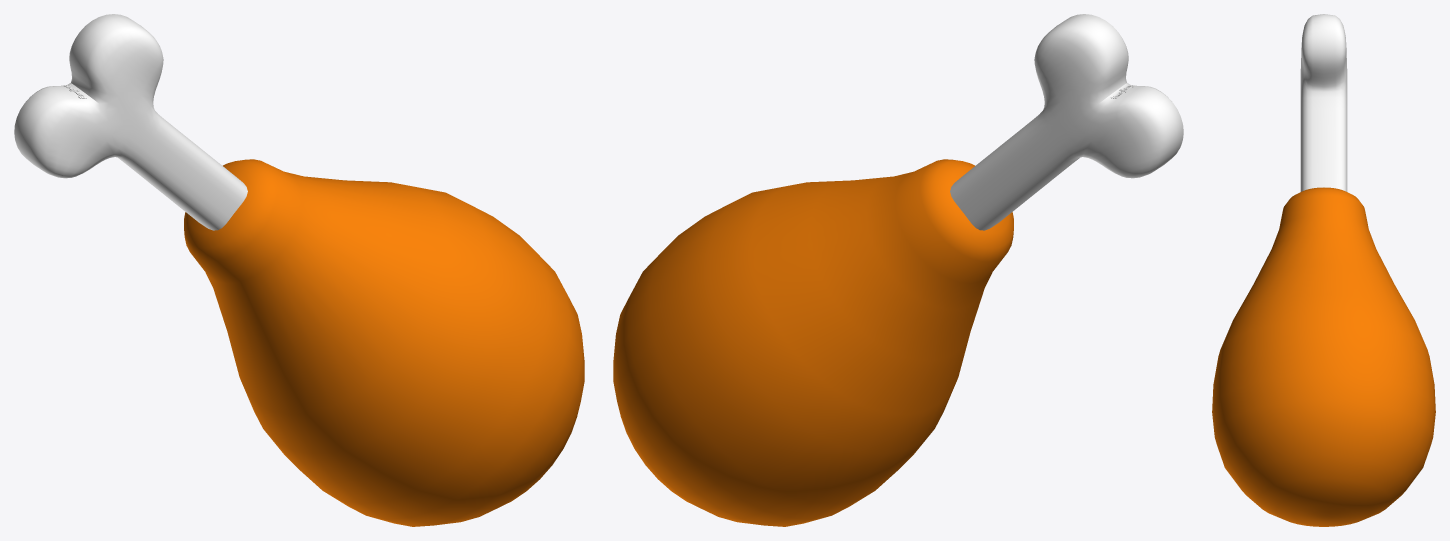
Rendered from poultry_leg.fbx.
3 renders of one model, left to right at view 1: azimuth 30°, elevation 25°; view 2: azimuth 150°, elevation 25°; view 3: azimuth 270°, elevation 25°, orthographic. The views are drawn at different scales.
Visible parts, largest first — view 1: Skull and Crossbones.002; view 2: Skull and Crossbones.002; view 3: Skull and Crossbones.002.
Part boxes in pixels (left/top/right/bottom): Skull and Crossbones.002: left=14, top=14, right=584, bottom=526; Skull and Crossbones.002: left=613, top=14, right=1183, bottom=526; Skull and Crossbones.002: left=1212, top=14, right=1435, bottom=526.
Size of the model in its own units: 222 by 222 by 114.
Materials: 1 (1 with a texture image).
